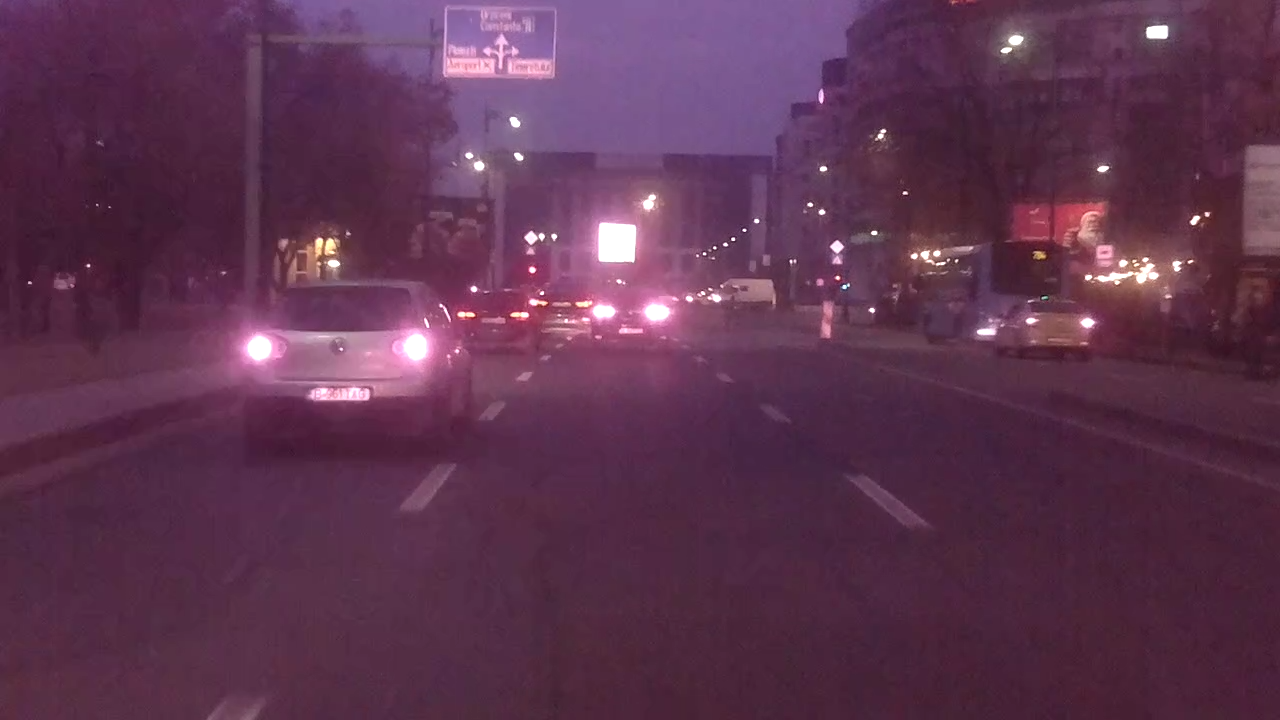license-plate: (304, 384, 373, 403)
